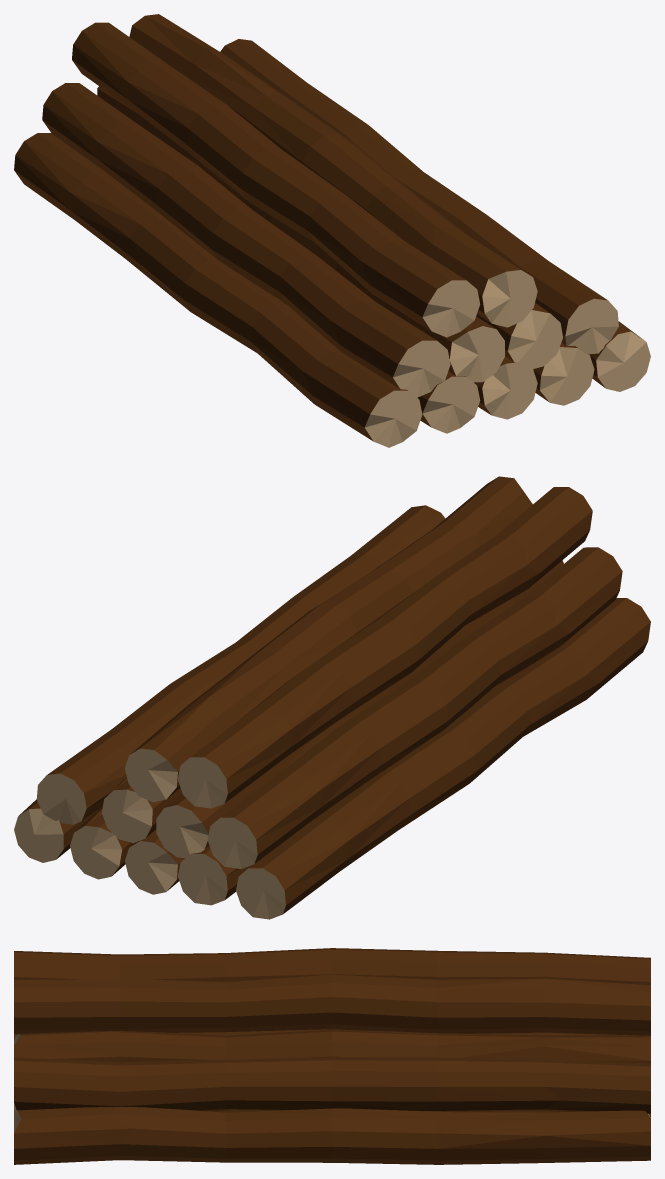
The model's file is Logs.fbx.
3 views of the same model, one above another, from view 1: azimuth 30°, elevation 25°; view 2: azimuth 150°, elevation 25°; view 3: azimuth 270°, elevation 25° (orthographic). The views are drawn at different scales.
Parts seen in each view (by area): view 1: Logs; view 2: Logs; view 3: Logs.
Boxes of the visible parts, x1,y1,x2,y2 form: Logs: [14, 14, 650, 447]; Logs: [14, 476, 650, 919]; Logs: [14, 948, 650, 1164].
Size of the model in its own units: 10.71 by 5.55 by 22.94.
